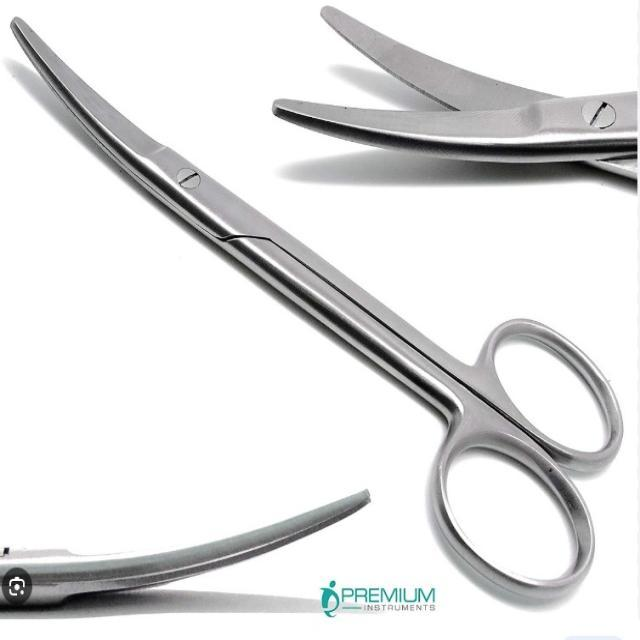Curved Mayo: (1, 7, 628, 606)
